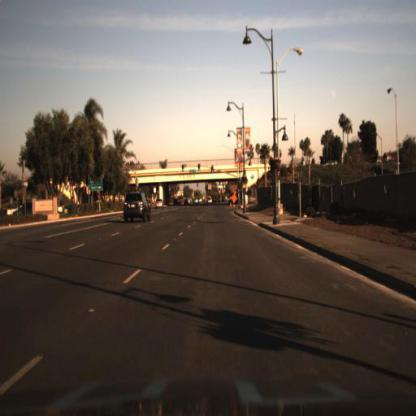car: (120, 190, 153, 228), (154, 197, 166, 213)
trafficLight-Green: (179, 162, 186, 178), (209, 166, 215, 178), (198, 161, 203, 174)
